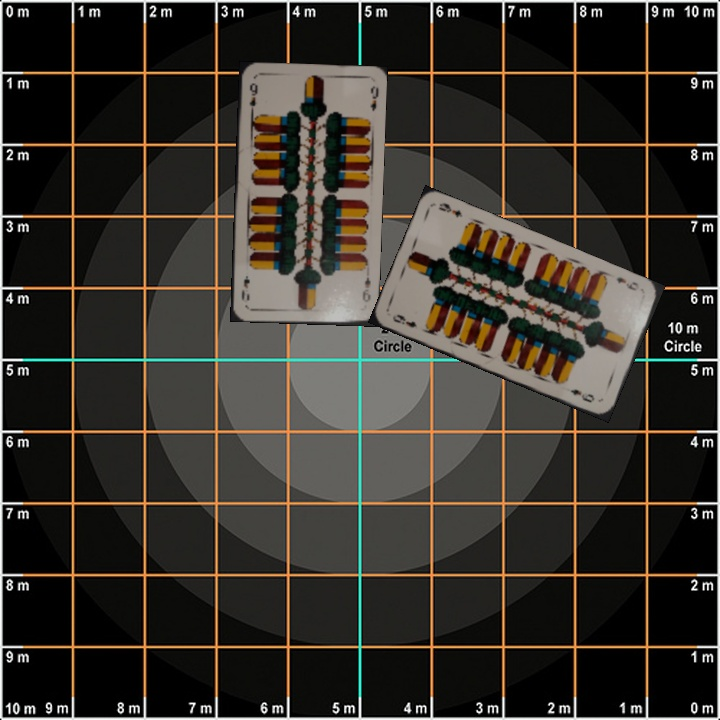E9: (388, 310, 419, 330), (612, 273, 642, 293), (245, 79, 260, 117), (358, 273, 373, 304)
